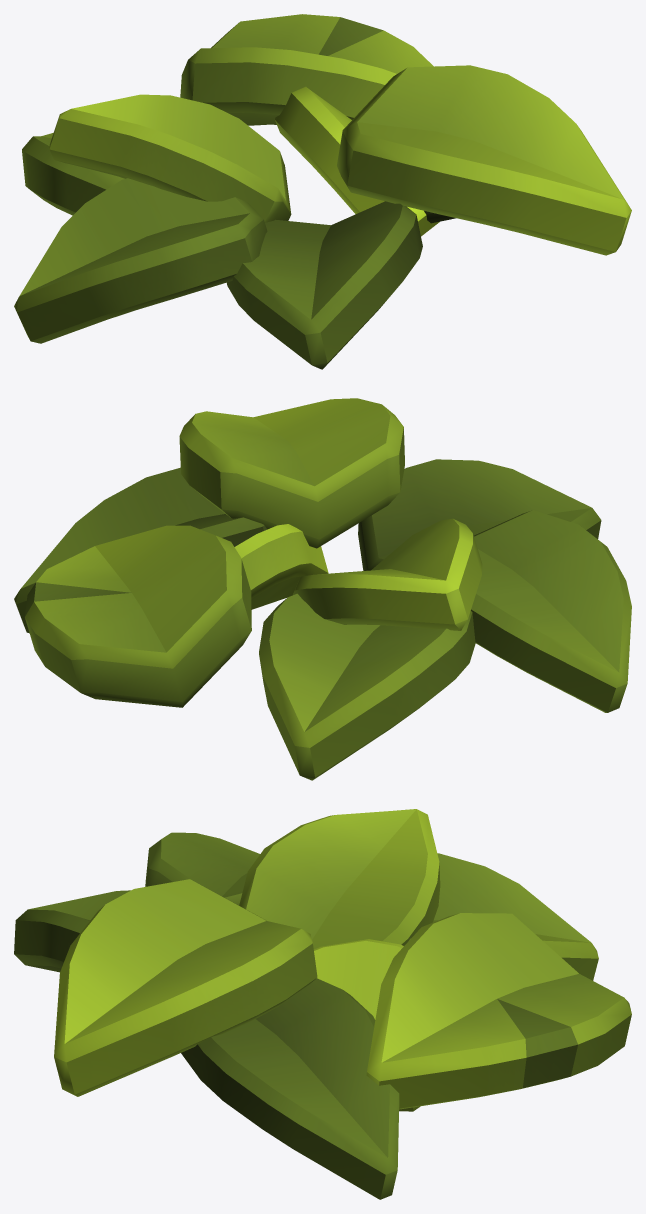
Rendered from leaves_pile_small_LOD_group.fbx.
3 views of the same model, one above another, from view 1: azimuth 30°, elevation 25°; view 2: azimuth 150°, elevation 25°; view 3: azimuth 270°, elevation 25° (orthographic). The views are drawn at different scales.
Parts seen in each view (by area): view 1: leaves_pile_small_LOD0; view 2: leaves_pile_small_LOD0; view 3: leaves_pile_small_LOD0.
Boxes of the visible parts, x1,y1,x2,y2 form: leaves_pile_small_LOD0: (14, 14, 631, 369); leaves_pile_small_LOD0: (14, 398, 631, 780); leaves_pile_small_LOD0: (14, 809, 631, 1199).
Size of what is drawn, in the model's own units: 173 by 55.39 by 160.
Materials: 1 (1 with a texture image).
